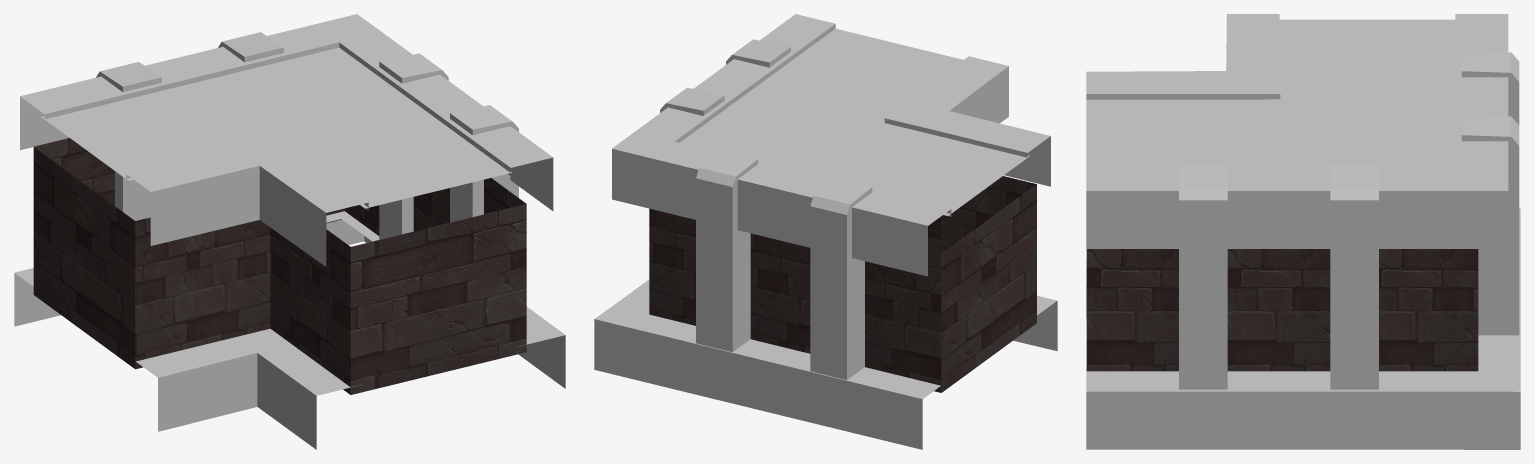
File: 10504_WRoadCorner01.FBX
3 views of the same model, side by side, from view 1: azimuth 30°, elevation 25°; view 2: azimuth 150°, elevation 25°; view 3: azimuth 270°, elevation 25° (orthographic). The views are drawn at different scales.
Parts seen in each view (by area): view 1: 10504_WRoadCorner01a, 10504_WRoadCorner01b; view 2: 10504_WRoadCorner01a, 10504_WRoadCorner01b; view 3: 10504_WRoadCorner01a, 10504_WRoadCorner01b.
Boxes of the visible parts, x1,y1,x2,y2 form: 10504_WRoadCorner01a: (14,14,565,449); 10504_WRoadCorner01b: (33,138,526,394); 10504_WRoadCorner01a: (594,14,1057,449); 10504_WRoadCorner01b: (649,176,1036,392); 10504_WRoadCorner01a: (1086,14,1520,449); 10504_WRoadCorner01b: (1086,249,1478,371).
Size of the model in its own units: 1039 by 681 by 1037.
